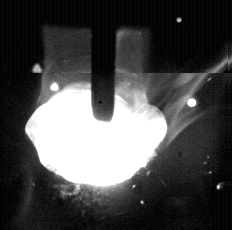arame: (92, 0, 115, 122)
poca: (24, 0, 168, 230)
